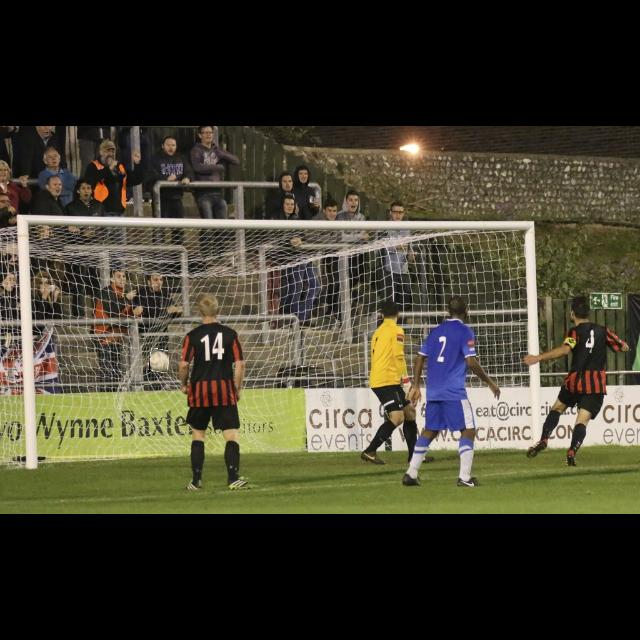Football: (149, 350, 169, 372)
